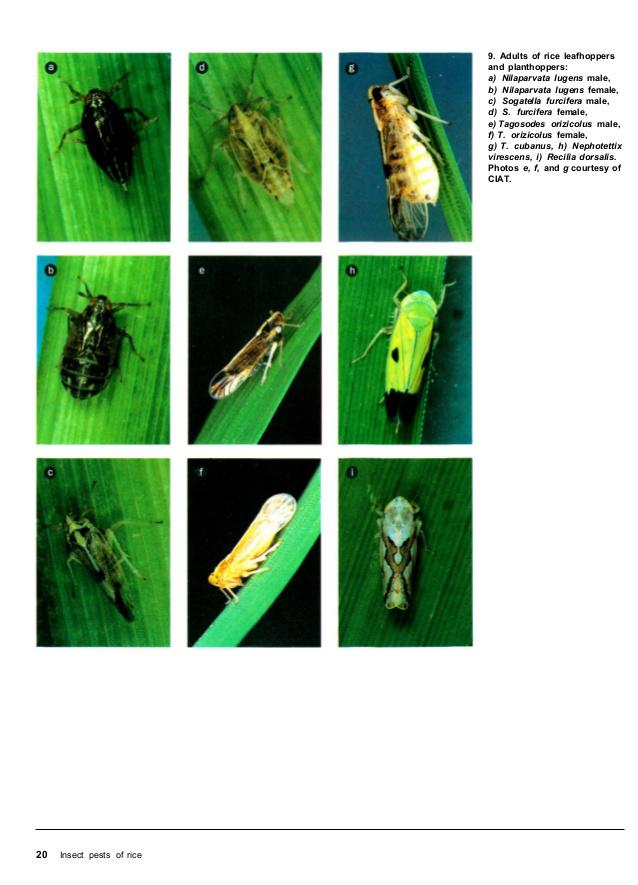pest: (368, 81, 443, 241), (208, 490, 295, 596), (72, 88, 145, 190), (384, 286, 435, 431), (208, 310, 291, 399), (66, 515, 131, 623), (58, 294, 124, 399), (226, 102, 295, 202), (379, 498, 418, 617)
